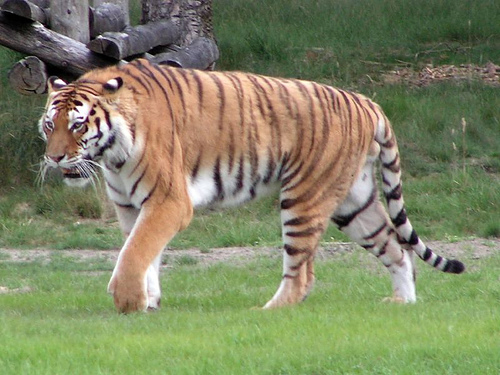Tigre: (29, 49, 460, 314)
